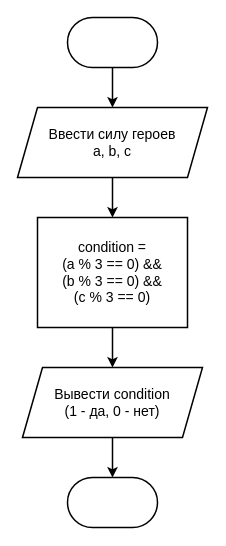
This 226x546 diagram has some shape labels left out. Here are the shapes that lost their labels. From the top down, the centre of each, then its label:
(x=112, y=42): Начало
(x=112, y=502): Конец
